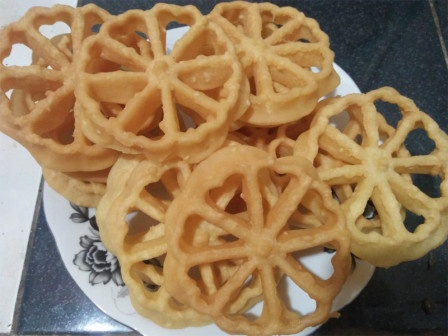kembang_goyang: (158, 148, 353, 335), (80, 4, 248, 166)
